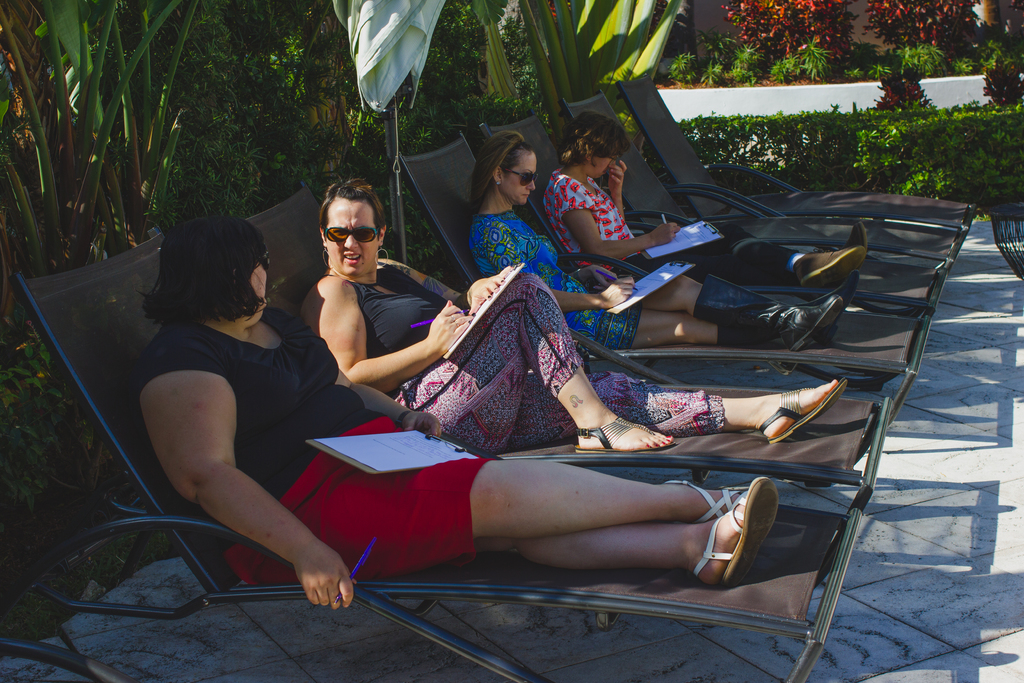Footwear: (692, 270, 841, 345), (717, 293, 846, 349), (699, 506, 770, 597), (762, 375, 849, 445), (664, 475, 746, 525), (572, 416, 678, 454), (792, 250, 865, 292), (846, 219, 867, 254)
